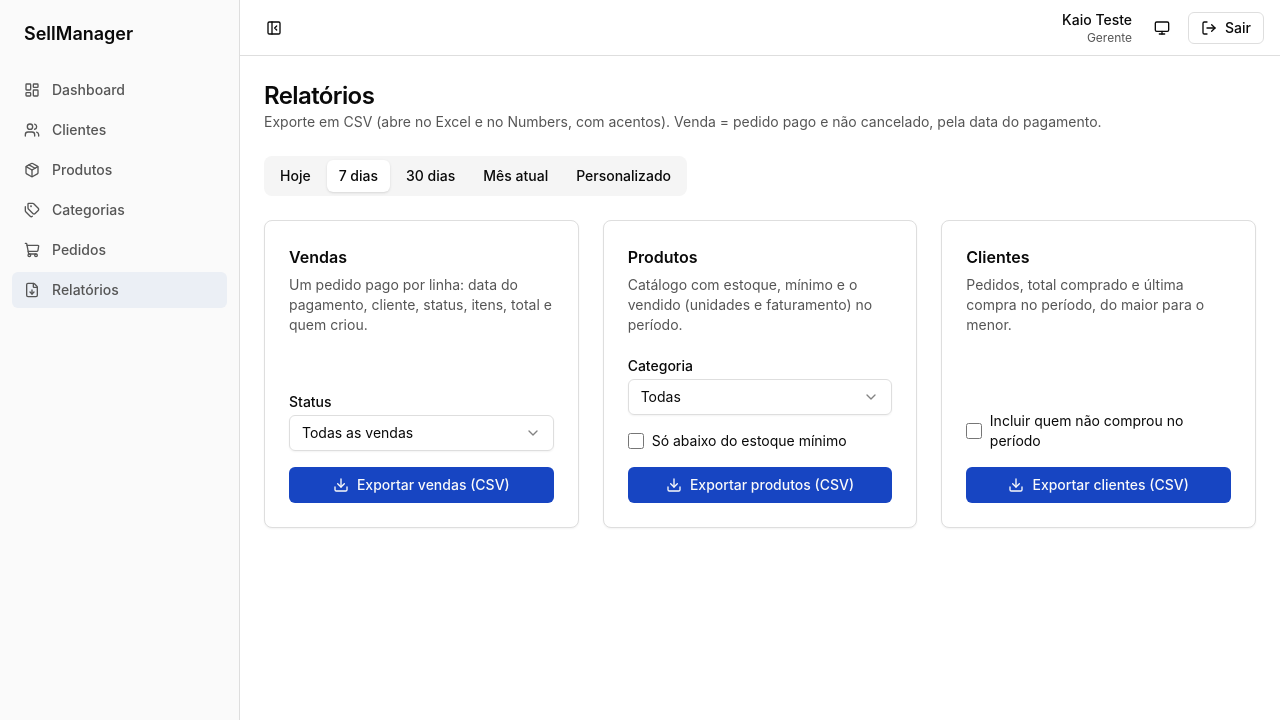
Test: Relatórios › exporta com o período e os filtros, e salva com o nome da API
This screenshot has width=1280, height=720.
Click the checkbox labelled "Só abaixo do estoque mínimo" at (636, 441), box [628,433,644,449]
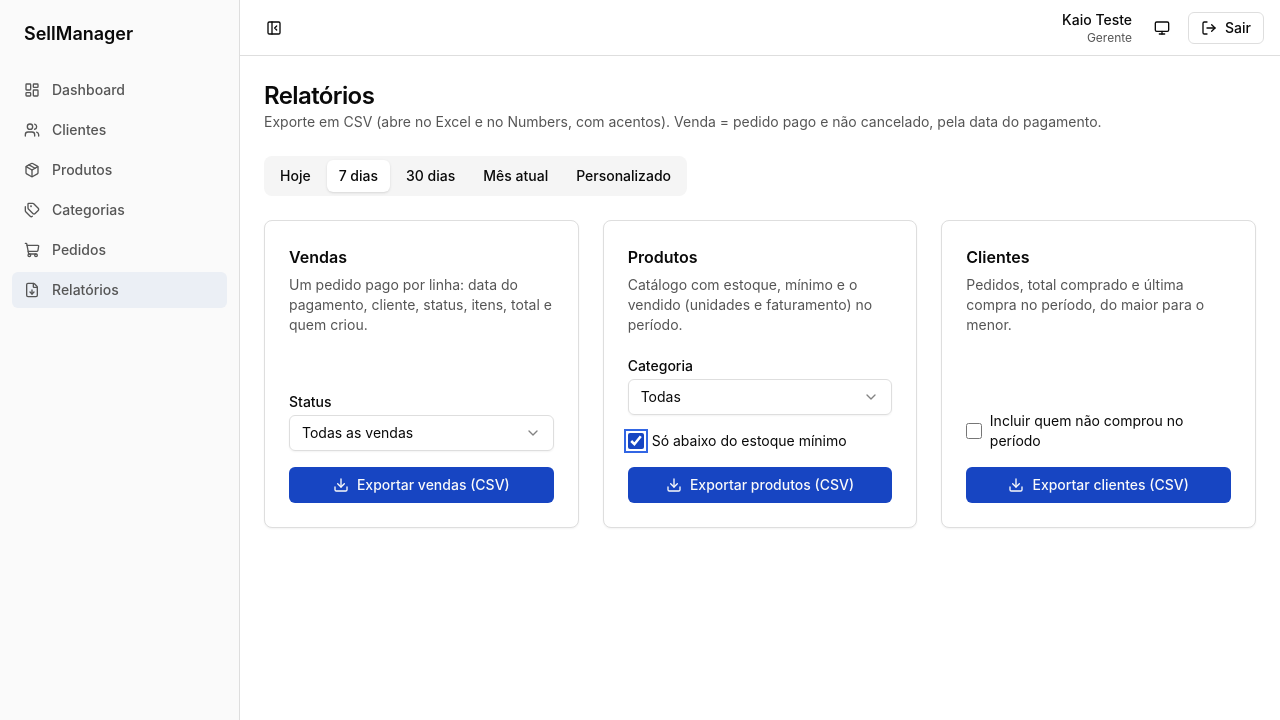
Click the button "Exportar produtos (CSV)" at (760, 485), box [628,467,892,503]
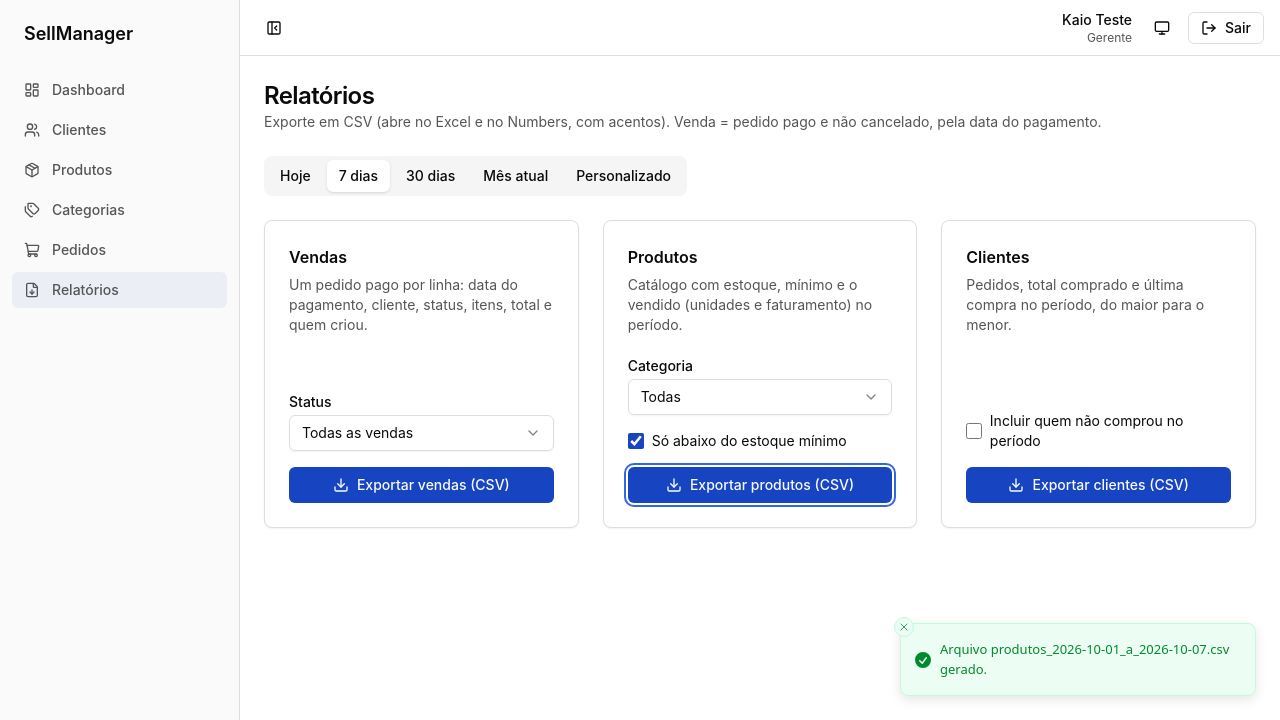
Expected: the text "Arquivo produtos_2026-10-01_a_2026-10-07.csv gerado." is shown, [940,640,1239,679]
